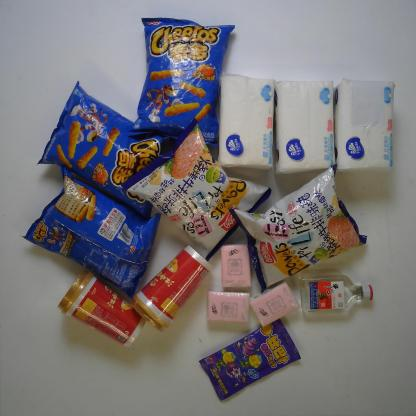Alcohol: (297, 272, 378, 321)
Candy: (197, 316, 300, 404)
Instant Drink: (56, 264, 154, 352), (126, 242, 216, 335)
Puffed Food: (122, 118, 277, 268), (34, 80, 181, 219), (223, 163, 372, 300), (20, 164, 165, 302), (122, 13, 238, 152)
Tissue: (271, 76, 342, 180), (211, 69, 278, 176), (332, 76, 397, 178), (249, 282, 300, 328), (202, 288, 254, 326), (218, 240, 255, 292)
